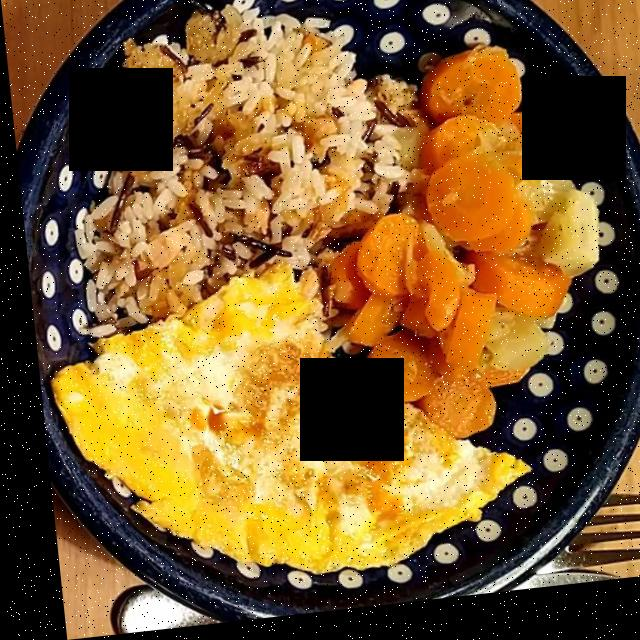carrot-raw: (328, 49, 568, 457)
fennel: (460, 123, 584, 288)
omelette-plain: (45, 244, 518, 567)
rice-wild: (63, 2, 421, 331)
